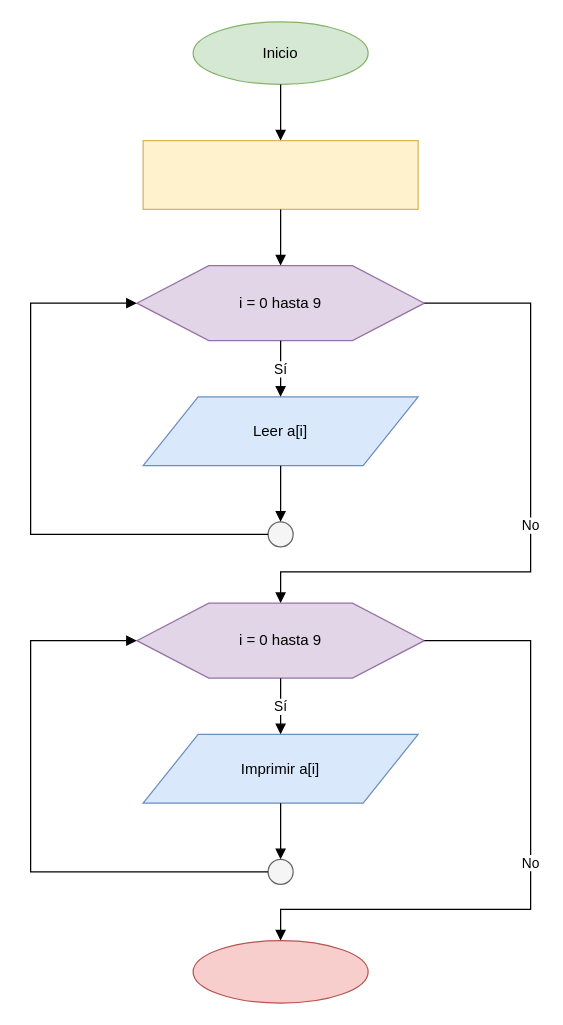
Some shapes in this 563 by 1025 pixel diagram are drawn without their labels. The shapes that lost their labels are listed below. From the top down, each one's centre as x and y in pixels, then its label:
At (x=280, y=174): "Declarar arreglo a[10]".
At (x=280, y=971): "Fin".
